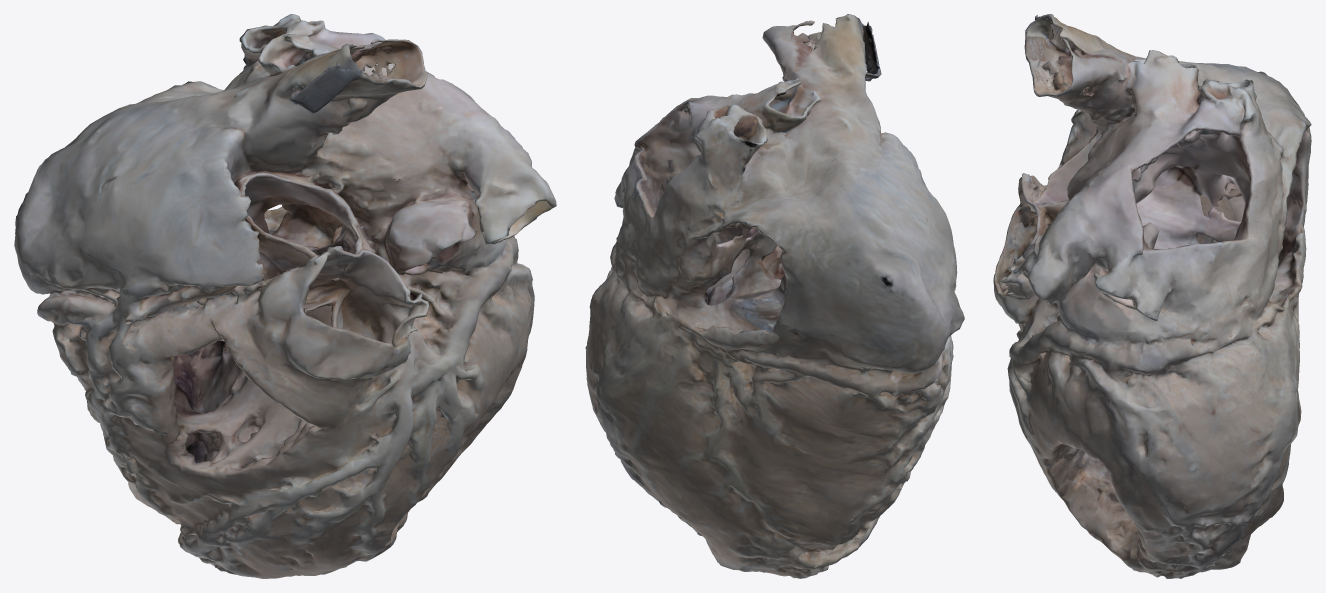
Rendered from FBX_HeartDiseased.fbx.
3 views of the same model, side by side, from view 1: azimuth 30°, elevation 25°; view 2: azimuth 150°, elevation 25°; view 3: azimuth 270°, elevation 25° (orthographic). The views are drawn at different scales.
Parts seen in each view (by area): view 1: Heart_100K_june20_2019:Mesh; view 2: Heart_100K_june20_2019:Mesh; view 3: Heart_100K_june20_2019:Mesh.
Boxes of the visible parts, left/top/right/bottom form: Heart_100K_june20_2019:Mesh: left=14, top=14, right=556, bottom=578; Heart_100K_june20_2019:Mesh: left=585, top=14, right=964, bottom=578; Heart_100K_june20_2019:Mesh: left=993, top=14, right=1311, bottom=578.
Bounding box in the file's own units: 0.7094 × 0.8811 × 0.4672.
